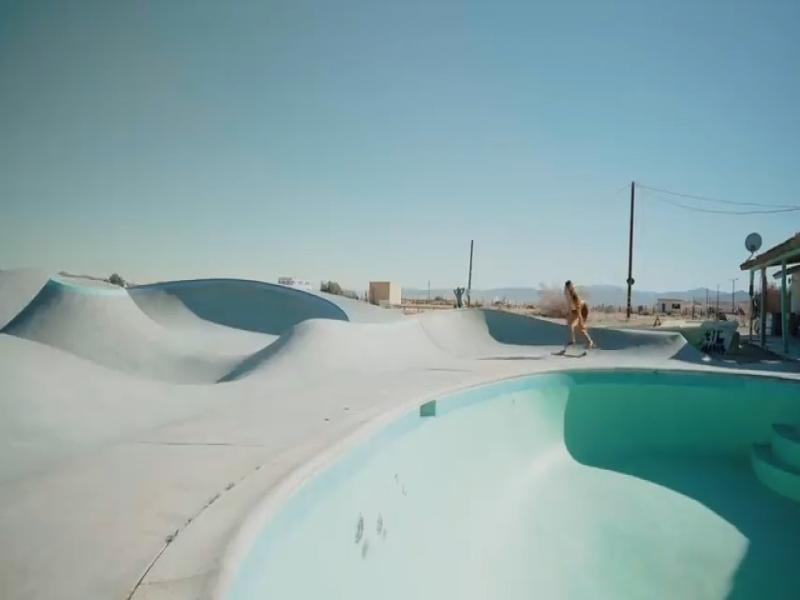person: (564, 281, 594, 349)
skate: (556, 338, 597, 358)
